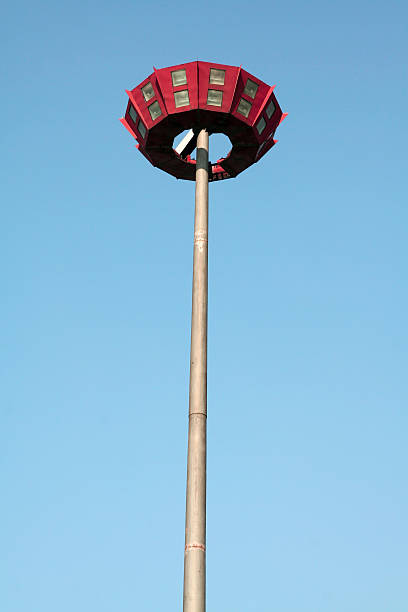light_pole: (184, 179, 212, 612)
